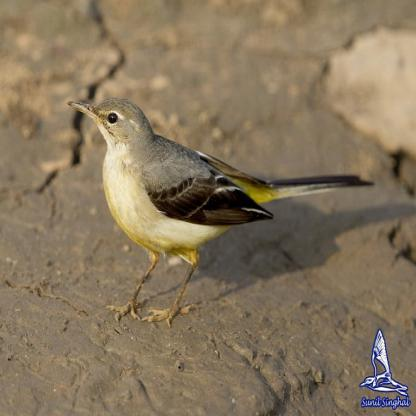Burung: (72, 92, 374, 322)
